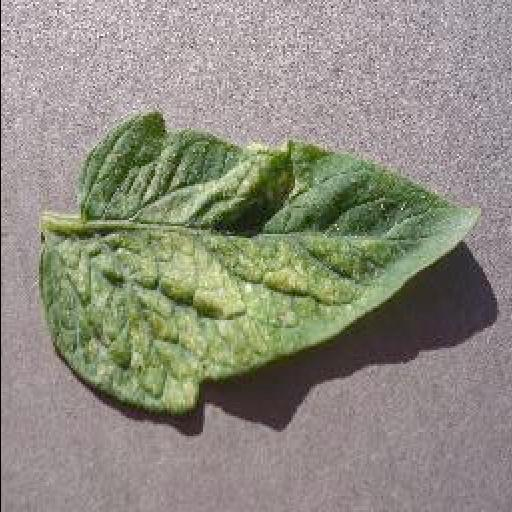disease_tomato: (38, 110, 486, 410)
